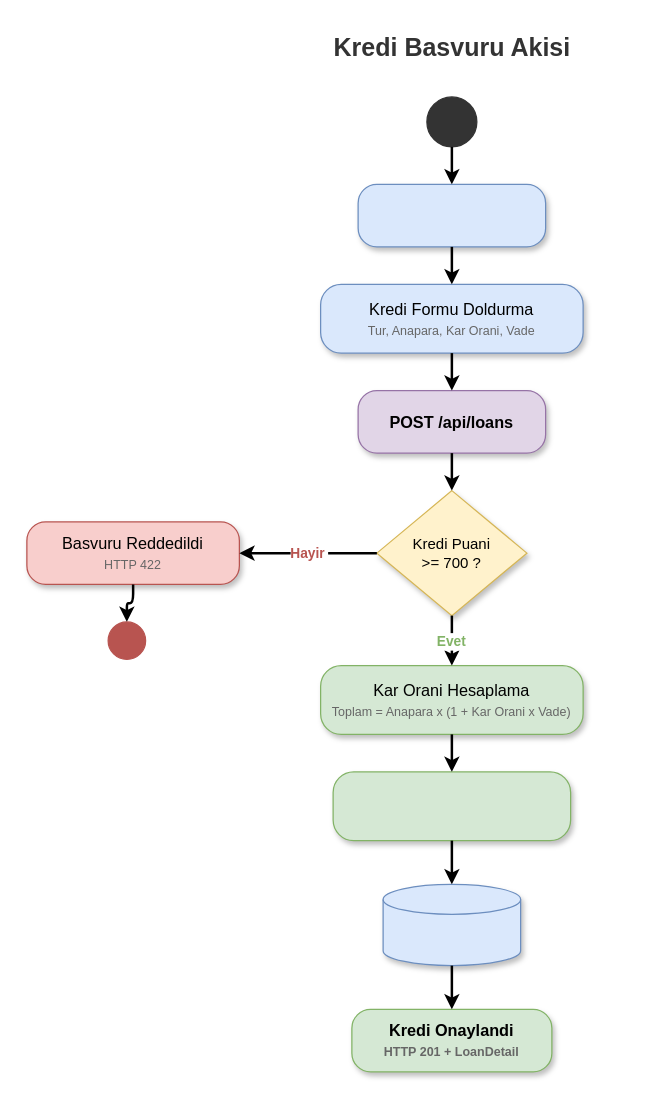
This 661x1103 diagram has some shape labels left out. The shapes that lost their labels are listed below. From the top down, each one's centre as x and y in pixels, then its label:
[452,217]: Musteri Secimi
[452,807]: Taksit Plani Olustur N adet esit taksit + son taksit yuvarlama
[452,926]: Loan + Installments DB'ye Kaydet
